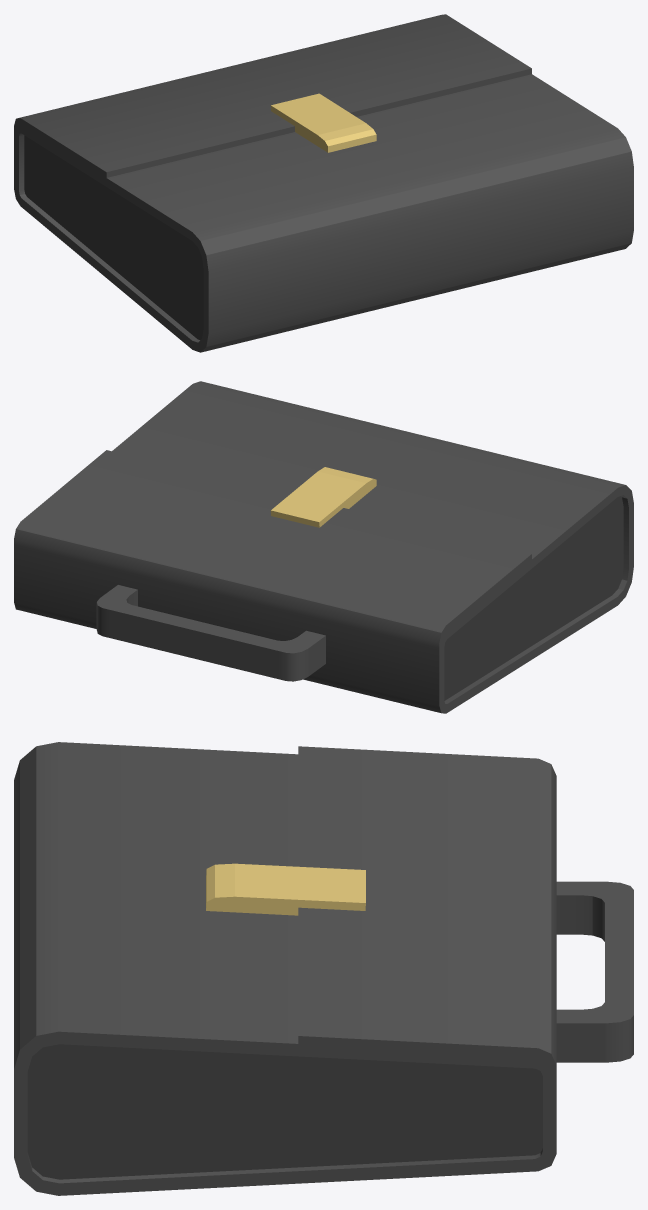
The model's file is Suitcase.fbx.
3 views of the same model, one above another, from view 1: azimuth 30°, elevation 25°; view 2: azimuth 150°, elevation 25°; view 3: azimuth 270°, elevation 25° (orthographic). The views are drawn at different scales.
Visible parts, largest first — view 1: Cube, Cube.001; view 2: Cube, Cube.002, Cube.001; view 3: Cube, Cube.002, Cube.001.
Part boxes in pixels (box(x1,y1,x2,y2)): Cube: box(14, 14, 633, 352); Cube.001: box(270, 93, 376, 152); Cube: box(14, 381, 633, 713); Cube.002: box(96, 585, 325, 681); Cube.001: box(270, 467, 376, 527); Cube: box(14, 742, 556, 1195); Cube.002: box(556, 881, 633, 1062); Cube.001: box(206, 863, 365, 915).
Bounding box in the file's own units: 55.89 × 15.38 × 50.56.
